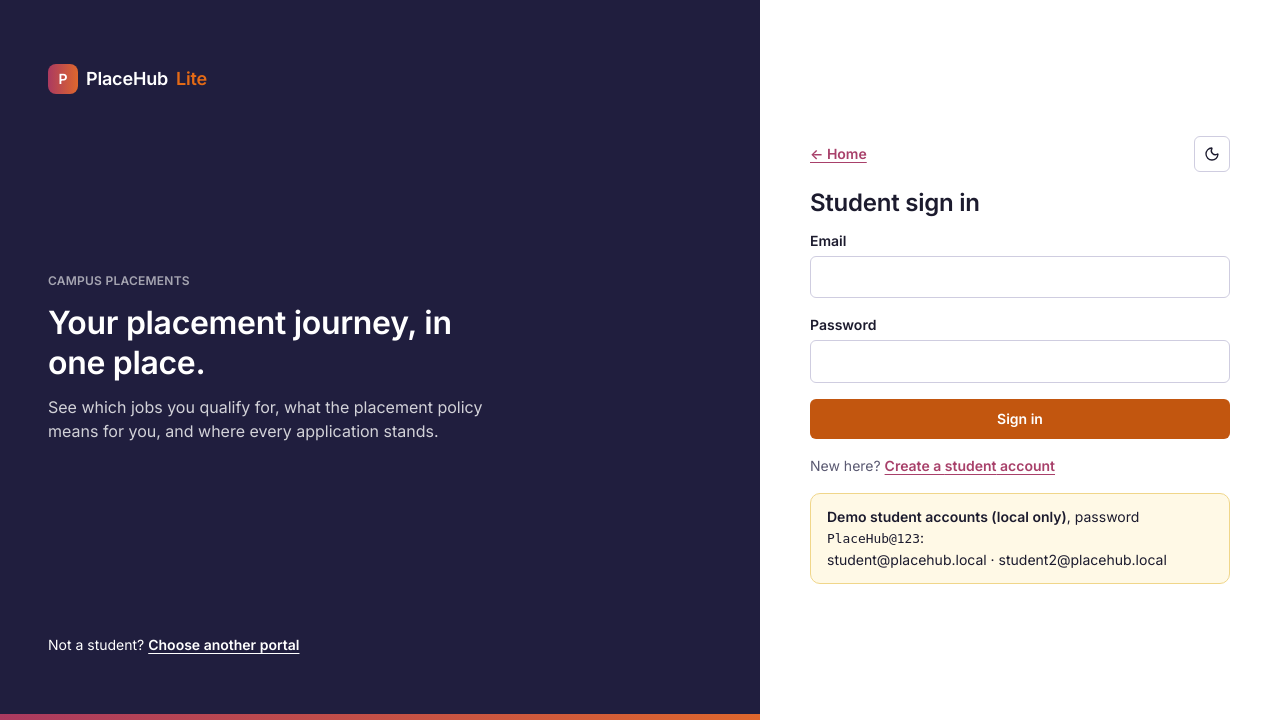
Login form validation › submits valid credentials and shows backend errors
Type "student@placehub.local" into the field labelled "Email" at (1020, 277), box [810,256,1230,298]
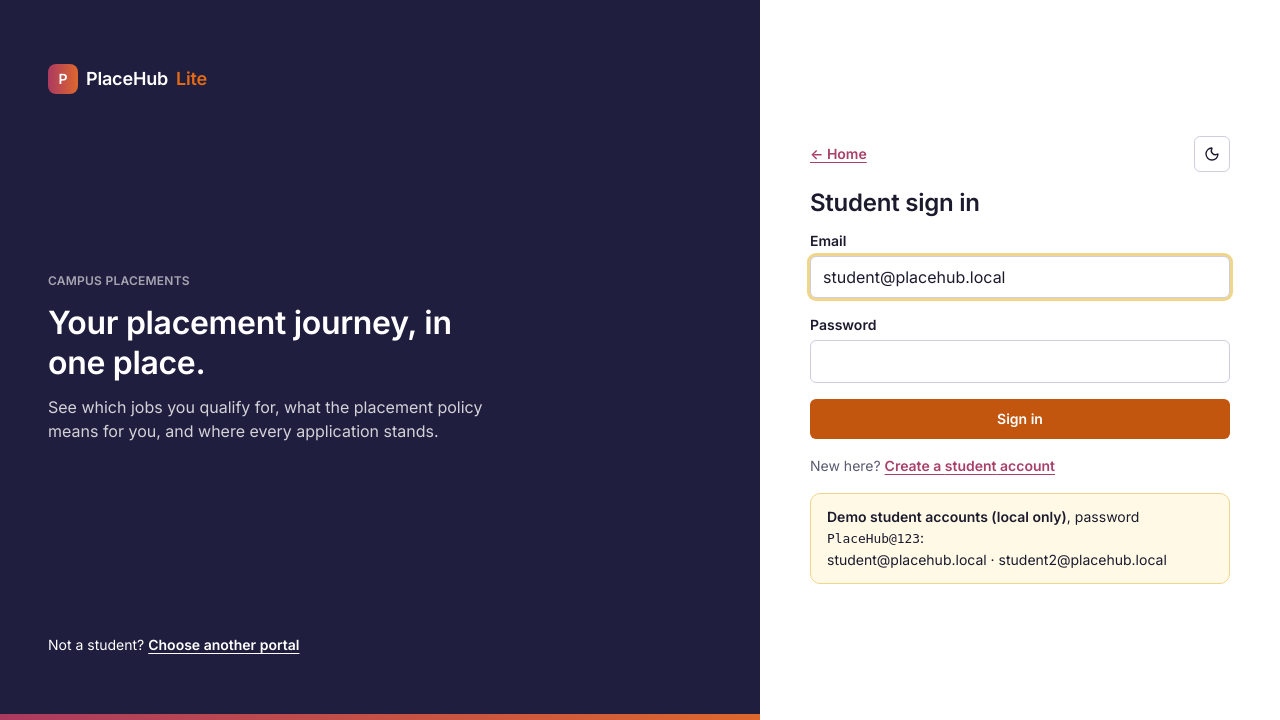
Type "wrong-pass1" into the password field labelled "Password" at (1020, 362), box [810,340,1230,383]
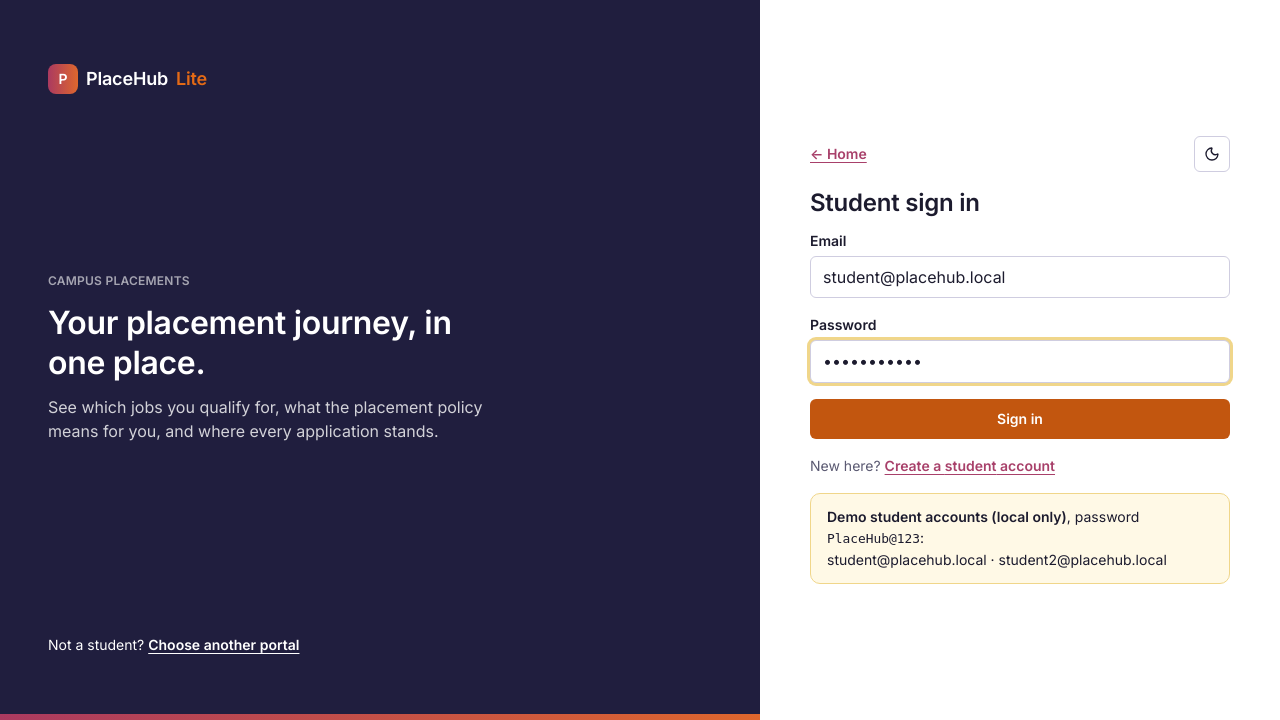
Click the button "Sign in" at (1020, 419), box [810,399,1230,439]
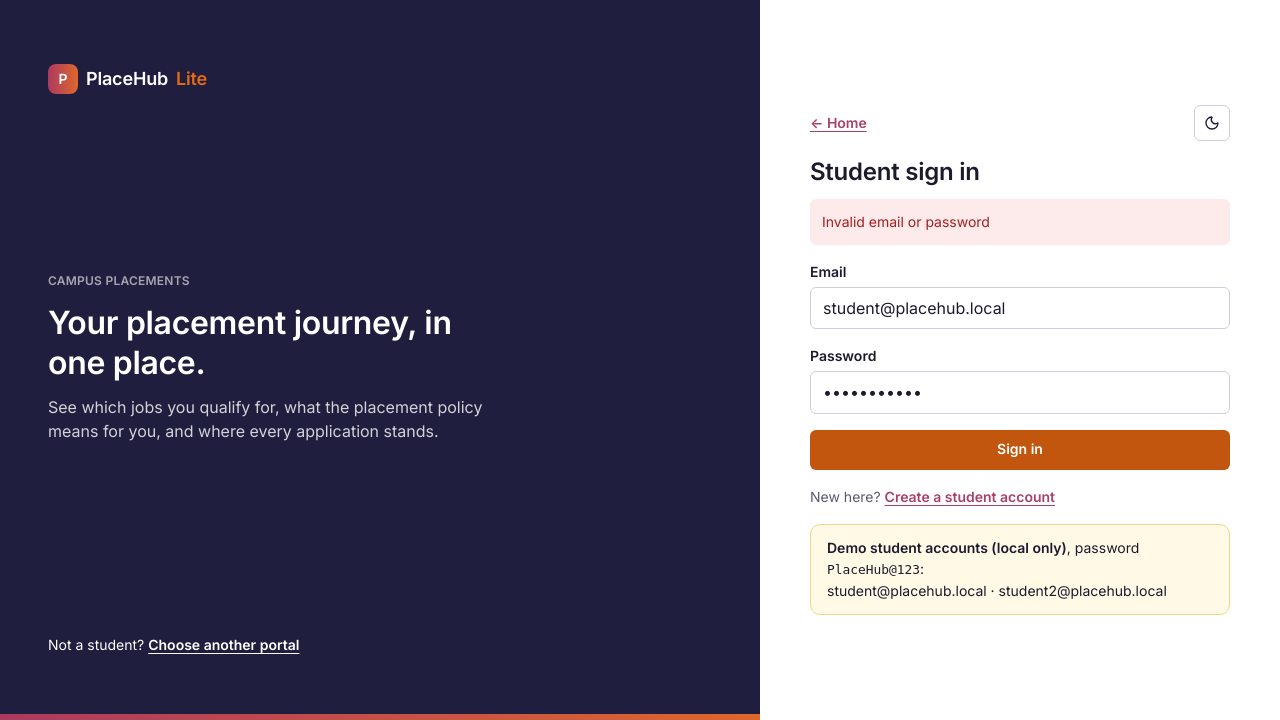
Result: the message reads "Invalid email or password" at [822,213,990,230]
